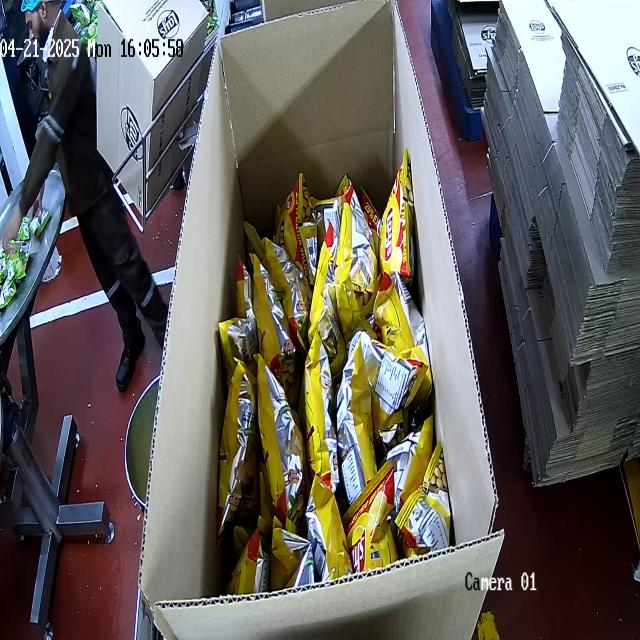SALTED: (205, 174, 450, 556)
